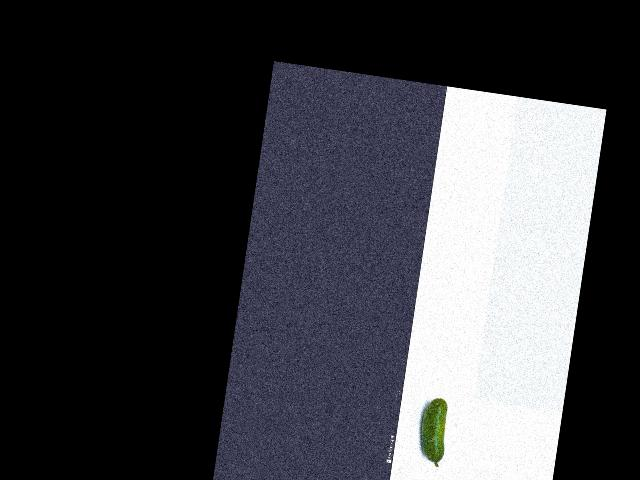cucumber: (416, 395, 451, 467)
